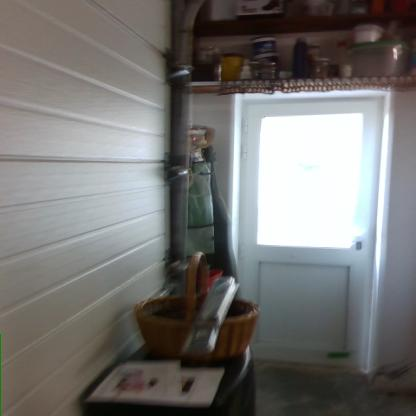closed: (230, 89, 397, 376)
